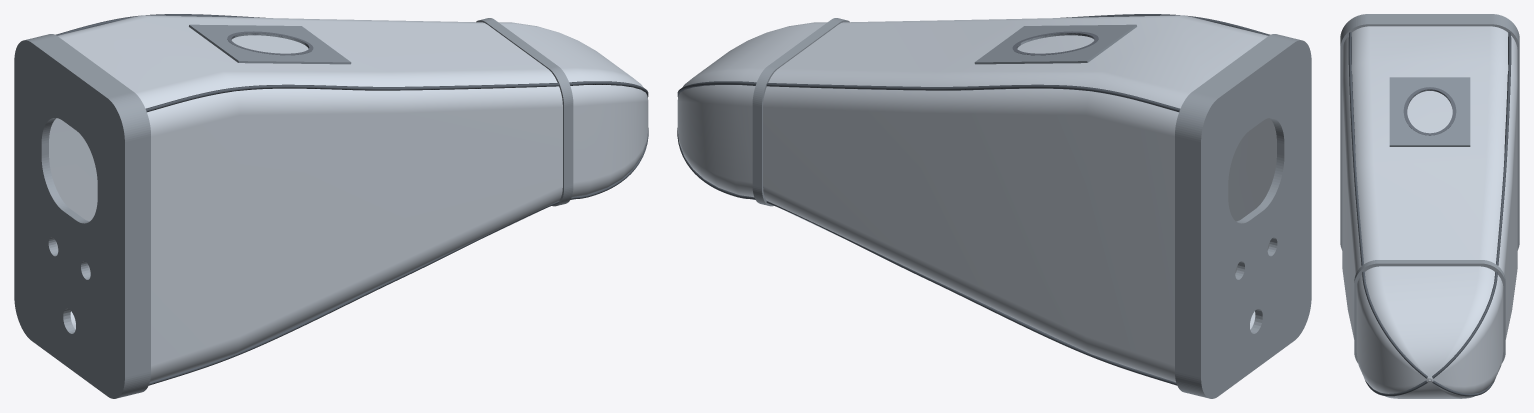
The model's file is uav-nose.glb.
3 views of the same model, side by side, from view 1: azimuth 30°, elevation 25°; view 2: azimuth 150°, elevation 25°; view 3: azimuth 270°, elevation 25° (orthographic). The views are drawn at different scales.
Visible parts, largest first — view 1: skin_shell, shp2_plate, shp2_flange, lyuk_frame, shp1_ring, skin_edge_0, skin_edge_3; view 2: skin_shell, shp2_plate, shp2_flange, lyuk_frame, shp1_ring, skin_edge_1, skin_edge_2; view 3: skin_shell, lyuk_frame, shp2_flange, shp1_ring, skin_edge_0, skin_edge_1, shp2_plate, lyuk_rim, skin_edge_2, skin_edge_3.
Boxes of the visible parts, bbox=[...] form: skin_shell: bbox=[49, 15, 648, 382]; shp2_plate: bbox=[14, 38, 132, 398]; shp2_flange: bbox=[30, 34, 150, 396]; lyuk_frame: bbox=[189, 24, 351, 64]; shp1_ring: bbox=[476, 18, 573, 206]; skin_edge_0: bbox=[145, 81, 648, 112]; skin_edge_3: bbox=[149, 128, 648, 385]; skin_shell: bbox=[677, 15, 1276, 382]; shp2_plate: bbox=[1193, 38, 1311, 398]; shp2_flange: bbox=[1175, 34, 1296, 396]; lyuk_frame: bbox=[974, 24, 1136, 64]; shp1_ring: bbox=[752, 18, 849, 206]; skin_edge_1: bbox=[677, 81, 1180, 112]; skin_edge_2: bbox=[677, 128, 1176, 385]; skin_shell: bbox=[1342, 26, 1517, 398]; lyuk_frame: bbox=[1389, 77, 1470, 146]; shp2_flange: bbox=[1340, 15, 1519, 250]; shp1_ring: bbox=[1354, 260, 1505, 362]; skin_edge_0: bbox=[1348, 32, 1427, 378]; skin_edge_1: bbox=[1432, 32, 1511, 378]; shp2_plate: bbox=[1340, 14, 1519, 38]; lyuk_rim: bbox=[1403, 87, 1456, 135]; skin_edge_2: bbox=[1432, 380, 1494, 396]; skin_edge_3: bbox=[1365, 380, 1427, 396].
Bounding box in the file's own units: 3.06 × 1.52 × 1.02.
